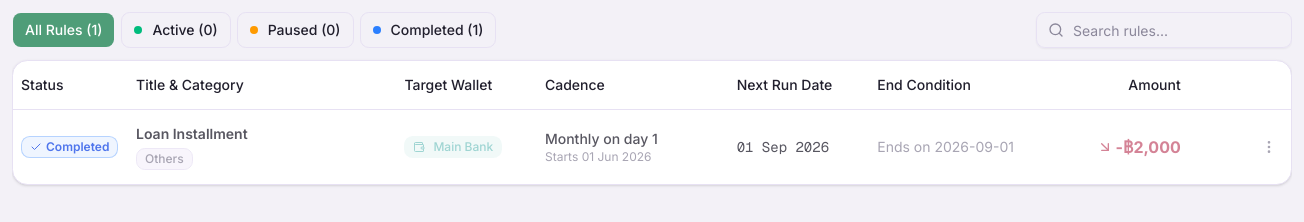
it: RulesTable (US4-3, US4-4, US4-5) › does not render Edit option for completed rules, allowing only deletion
// Open dropdown menu
Click the button named "more actions".
click(1269, 147)  # box [1255,133,1283,161]
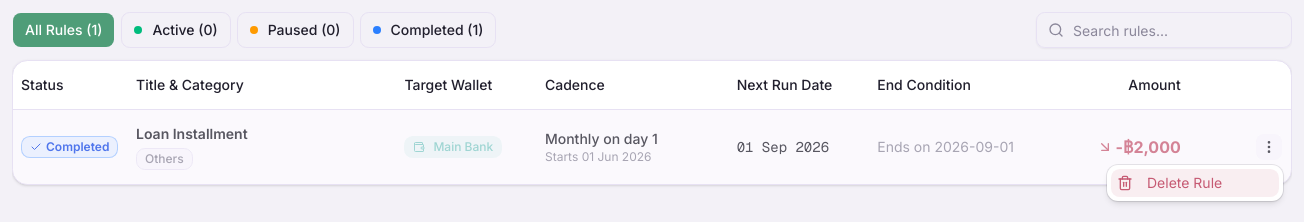
Result: the menu item "Delete Rule" is shown at [1111,169,1279,197]
